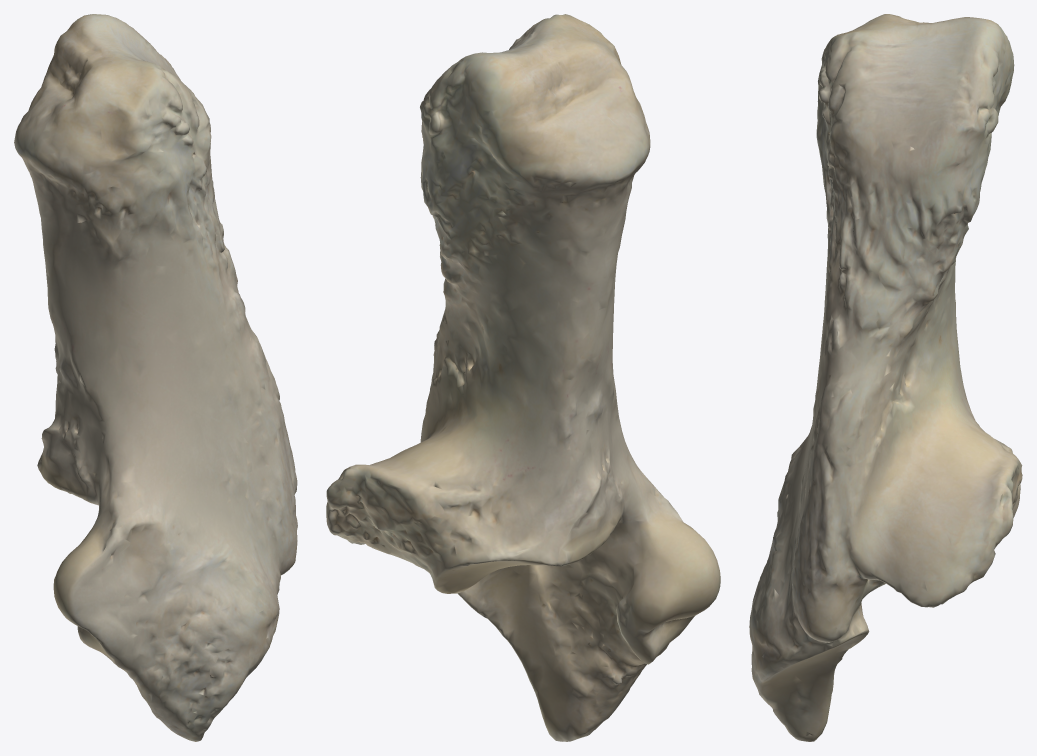
The picture shows the model from 3 angles, left to right: view 1: azimuth 30°, elevation 25°; view 2: azimuth 150°, elevation 25°; view 3: azimuth 270°, elevation 25°; orthographic projection. The views are drawn at different scales.
Parts seen in each view (by area): view 1: Calcaneus_li_Rind.001; view 2: Calcaneus_li_Rind.001; view 3: Calcaneus_li_Rind.001.
Boxes of the visible parts, x1=… form: Calcaneus_li_Rind.001: x1=14, y1=14, x2=297, y2=741; Calcaneus_li_Rind.001: x1=326, y1=14, x2=720, y2=741; Calcaneus_li_Rind.001: x1=749, y1=14, x2=1022, y2=741.
Size of the model in its own units: 6554 by 15420 by 5383.
Materials: 1 (1 with a texture image).
